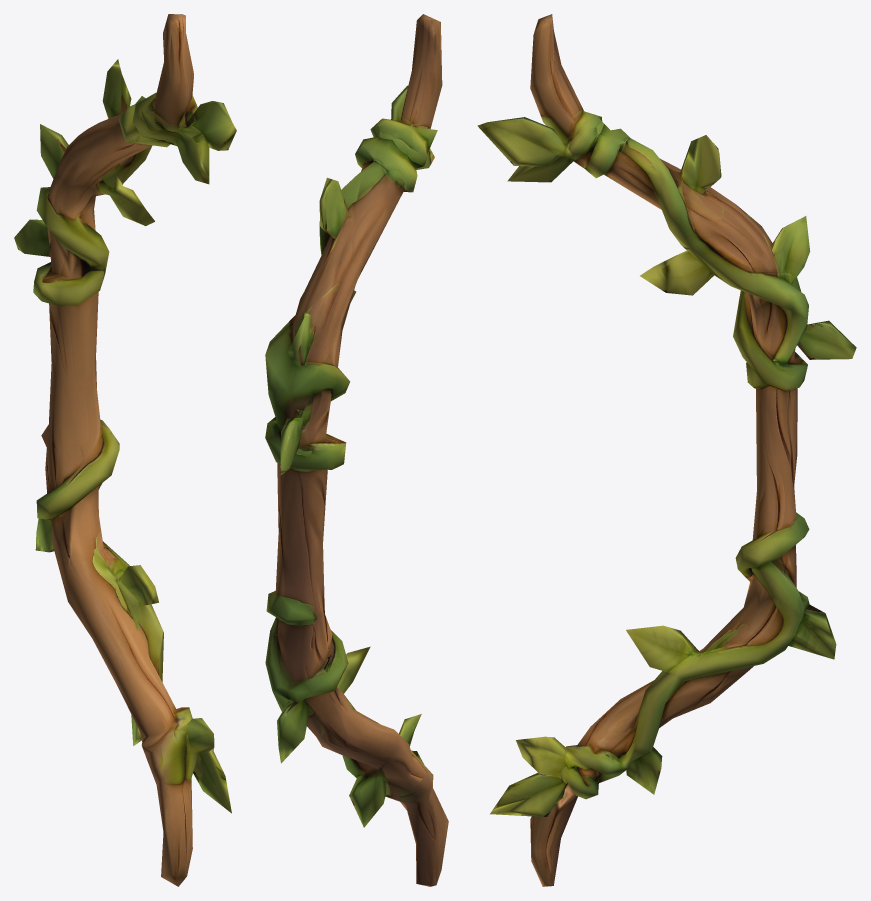
File: bow.fbx
3 renders of one model, left to right at view 1: azimuth 30°, elevation 25°; view 2: azimuth 150°, elevation 25°; view 3: azimuth 270°, elevation 25°, orthographic.
Parts seen in each view (by area): view 1: tripo_node_8a01c834; view 2: tripo_node_8a01c834; view 3: tripo_node_8a01c834.
Part boxes in pixels (box(x1,y1,x2,y2)): tripo_node_8a01c834: box(14, 14, 236, 886); tripo_node_8a01c834: box(265, 14, 448, 886); tripo_node_8a01c834: box(477, 14, 856, 886).
Bounding box in the file's own units: 9.27 × 100 × 39.51.
1 material, 1 textured.
